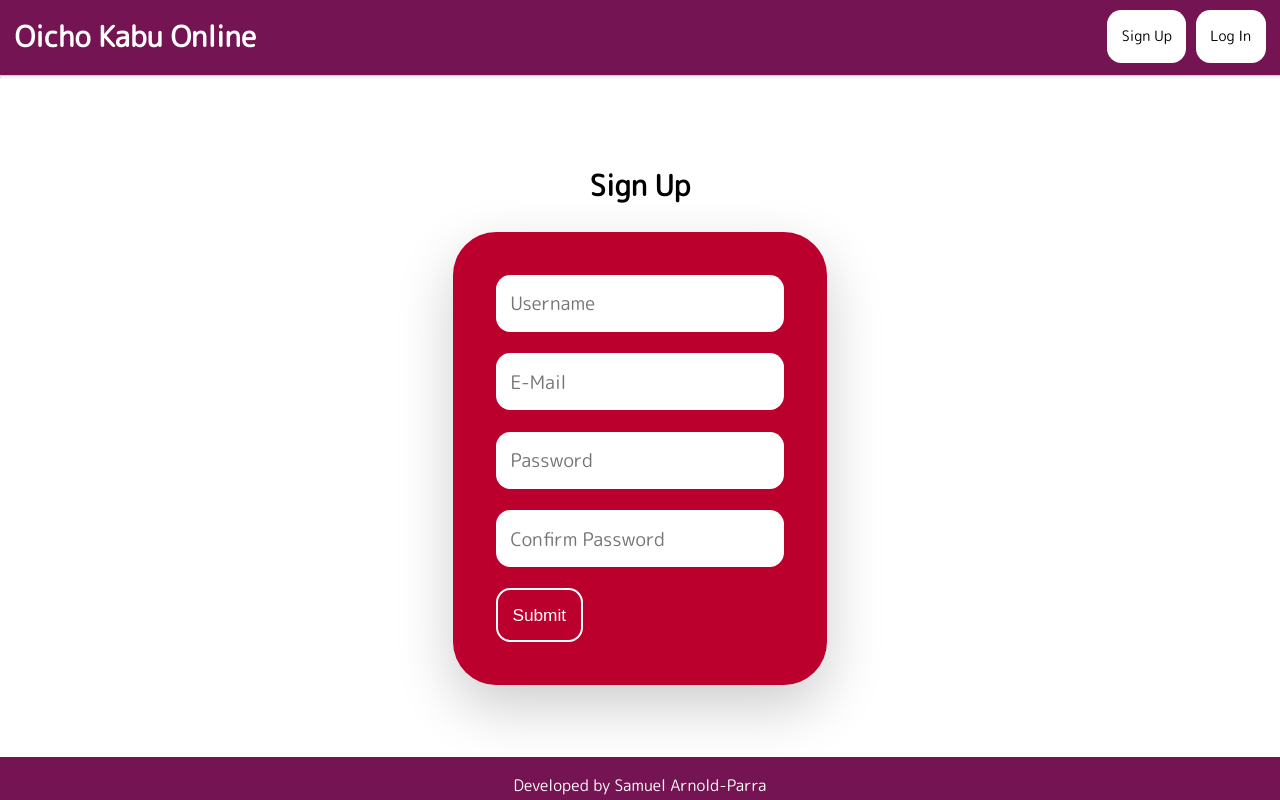
Test: SignUp › prompts a toast when the username is too long
The image size is (1280, 800).
Type "reallyreallylongusername" into the field with placeholder "Username" at (640, 303), box [496,275,784,332]
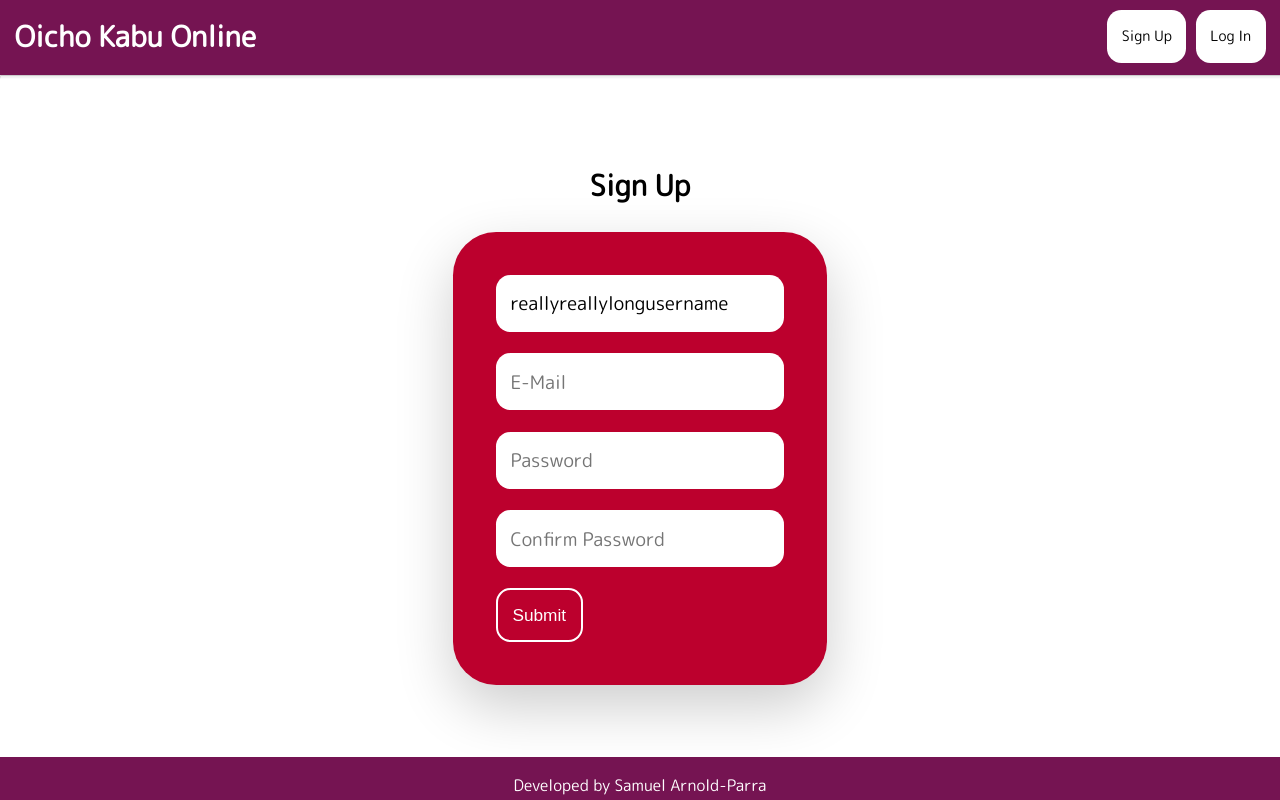
Type "test@email.com" into the field with placeholder "E-Mail" at (640, 382), box [496,353,784,410]
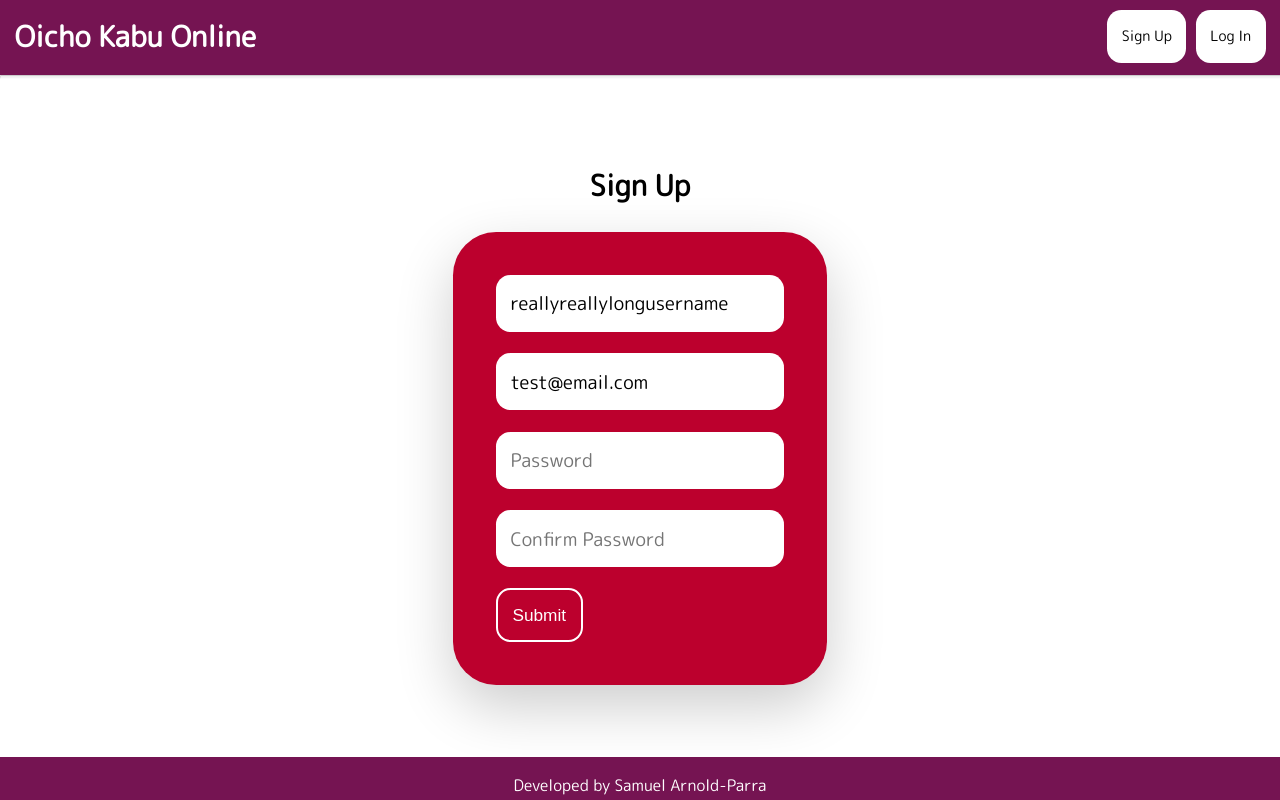
Type "test_password" into the password field with placeholder "Password" at (640, 460), box [496,432,784,488]
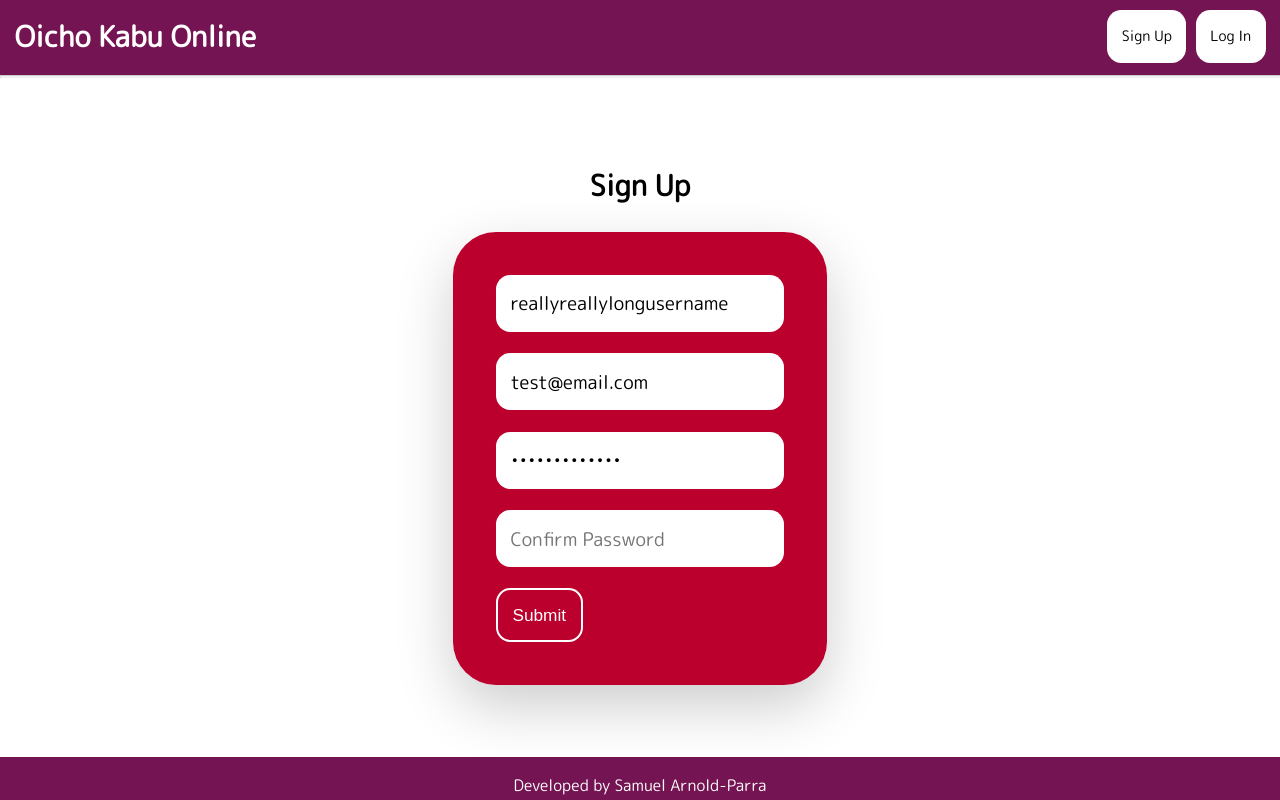
Type "test_password" into the password field with placeholder "Confirm Password" at (640, 538), box [496,510,784,567]
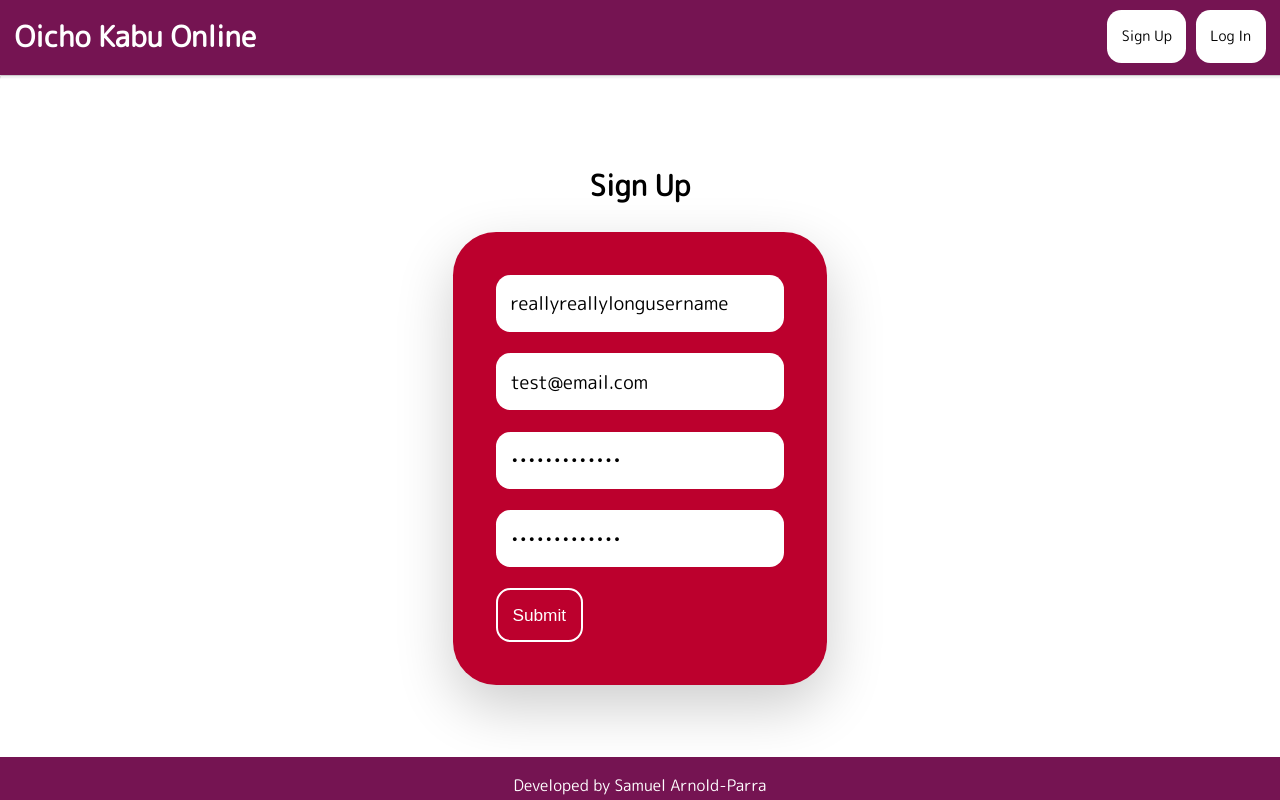
Click the button "Submit" at (539, 615), box [496,588,582,642]
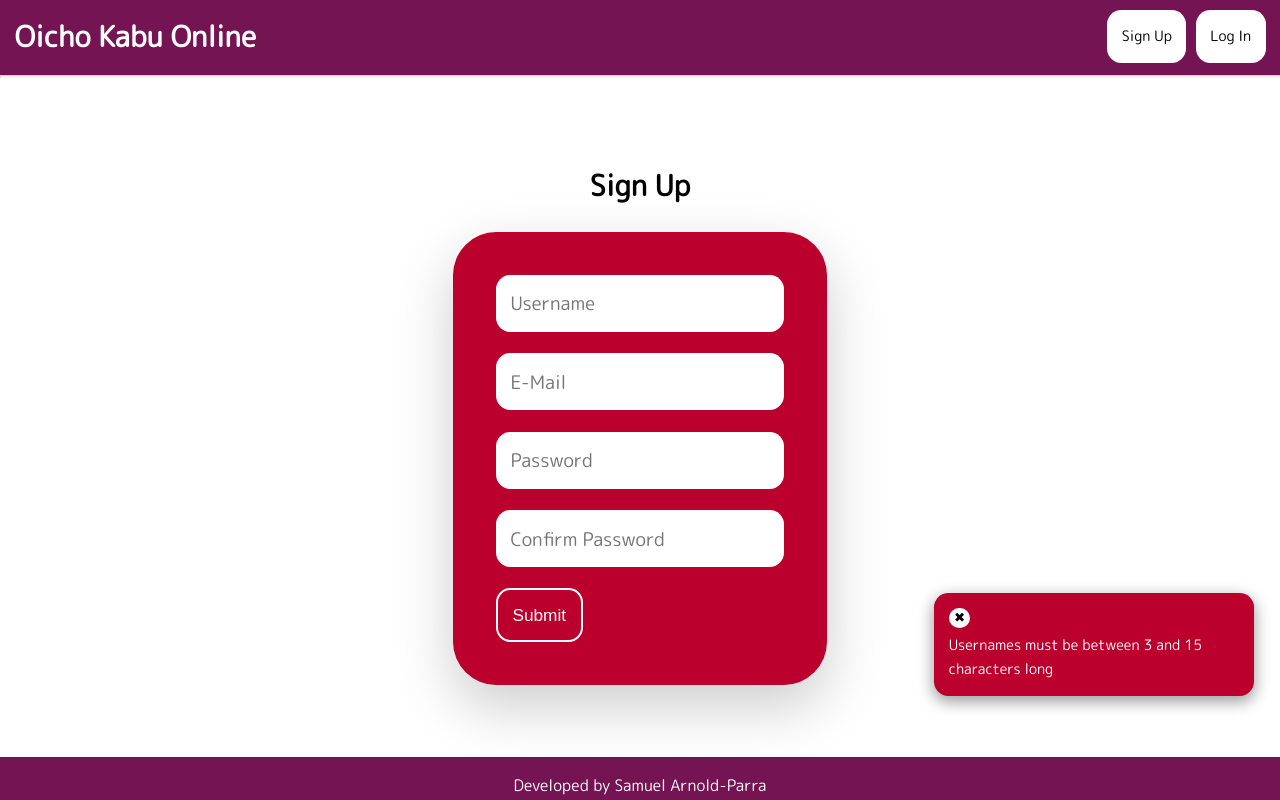
Check: the text "Usernames must be between 3 and 15 characters long" is shown, box [949,633,1240,682]
